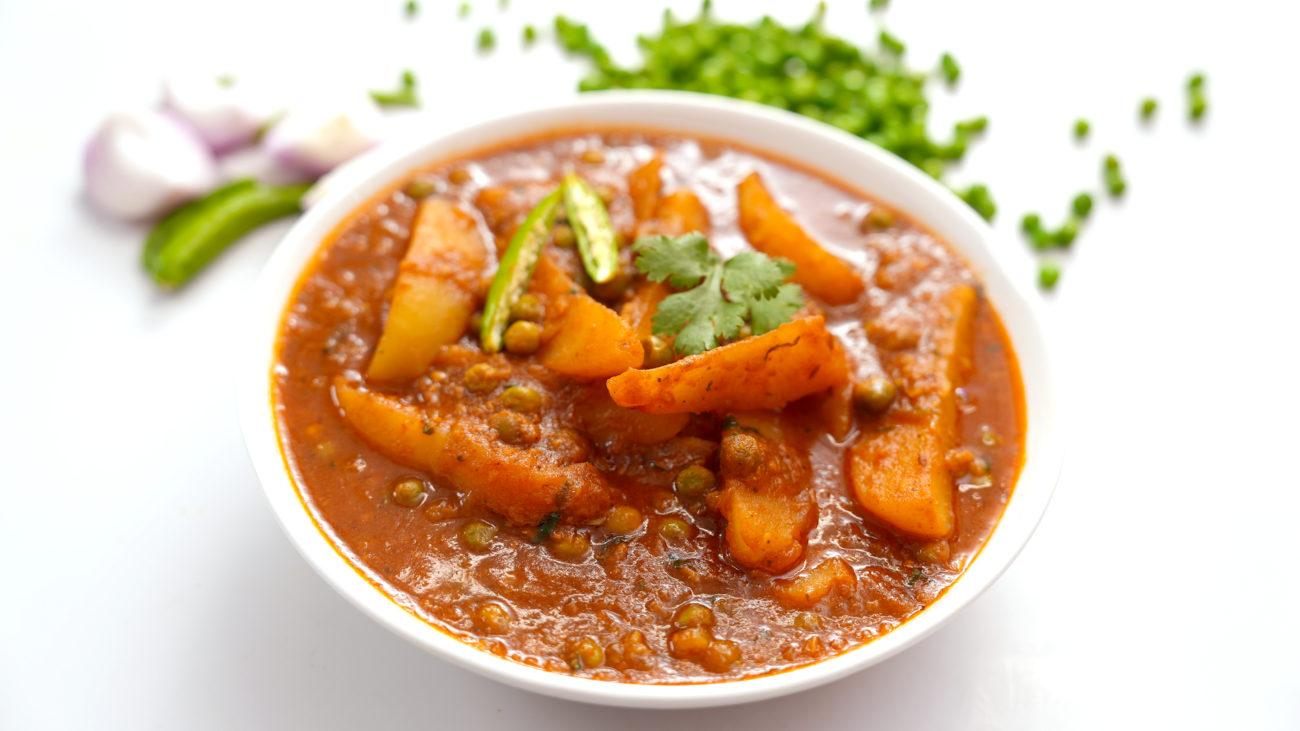aloo sabji: (369, 139, 994, 651)
